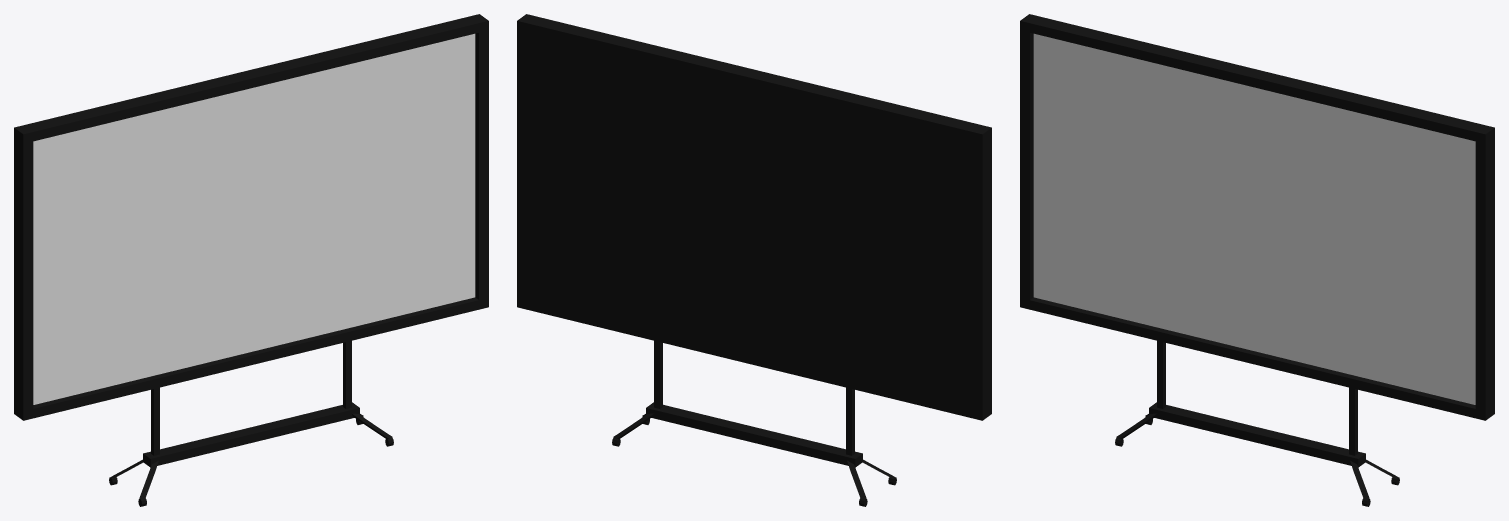
File: newbookarchive_monitor.fbx
3 renders of one model, left to right at view 1: azimuth 30°, elevation 25°; view 2: azimuth 150°, elevation 25°; view 3: azimuth 330°, elevation 25°, orthographic.
Visible parts, largest first — view 1: newbookarchive_monitor; view 2: newbookarchive_monitor; view 3: newbookarchive_monitor.
Boxes of the visible parts, x1=… form: newbookarchive_monitor: x1=14, y1=14, x2=488, y2=506; newbookarchive_monitor: x1=517, y1=14, x2=991, y2=506; newbookarchive_monitor: x1=1020, y1=14, x2=1494, y2=506.
Bounding box in the file's own units: 0.0258 × 0.0207 × 0.00317.
Materials: 1 (1 with a texture image).
